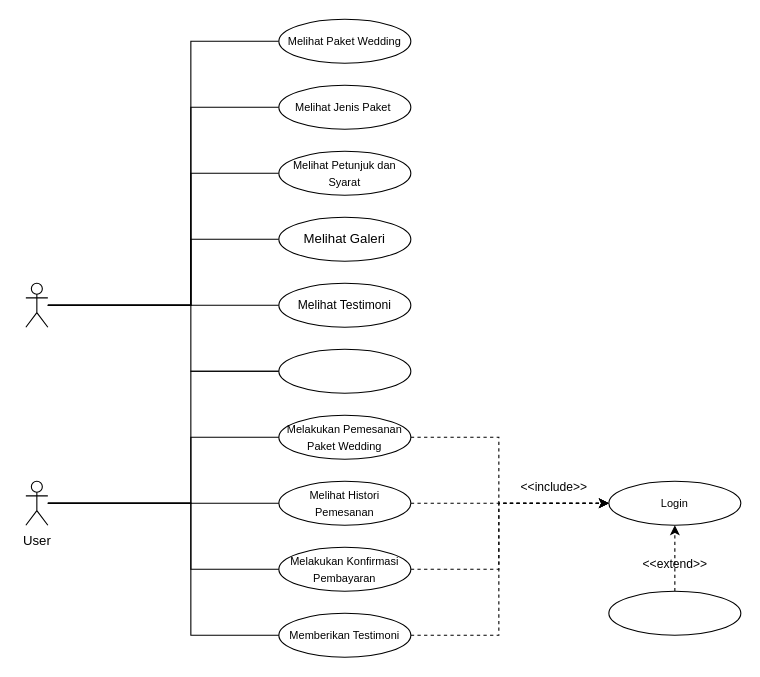
Image size: 760x677. Some labels were removed from this diagram. The shapes that lost their labels are listed below. From the top down, each one's centre as x and y in pixels, then its label:
[36,304]: Visitor
[344,370]: Melakukan Pendaftaran
[674,612]: Logout
